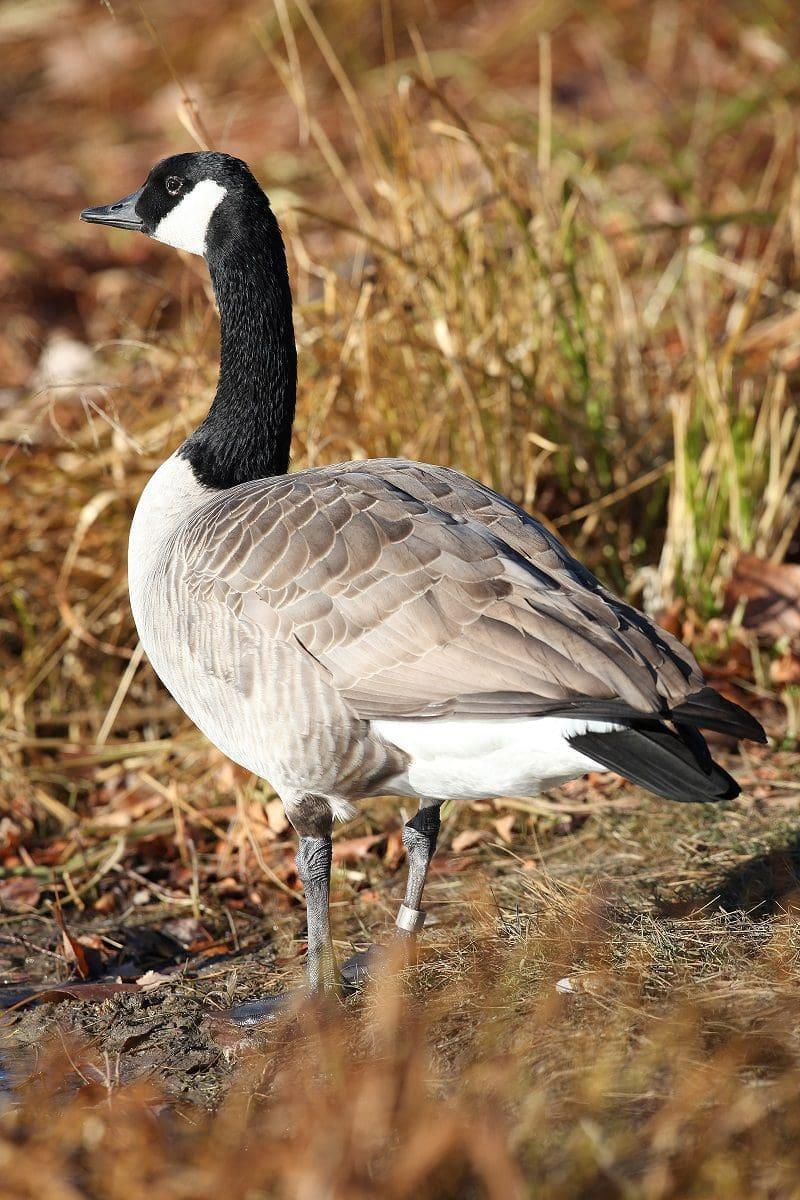Canadian-Goose: (81, 146, 761, 975)
